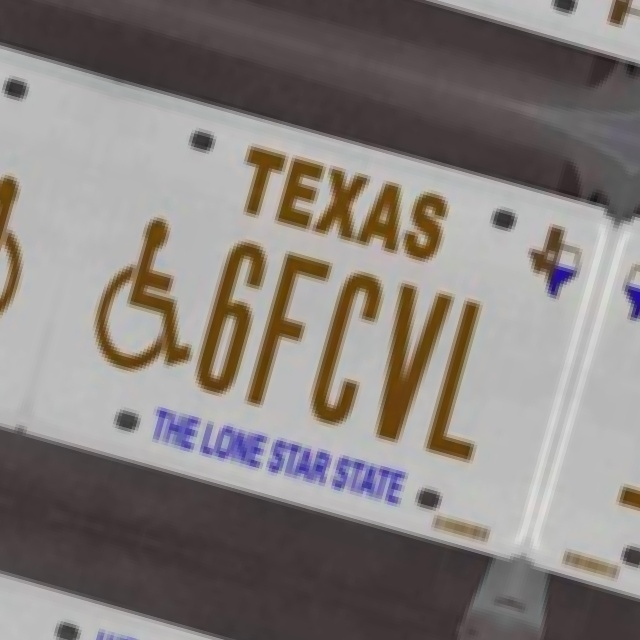ISA: (81, 204, 227, 388), (0, 154, 47, 338)
